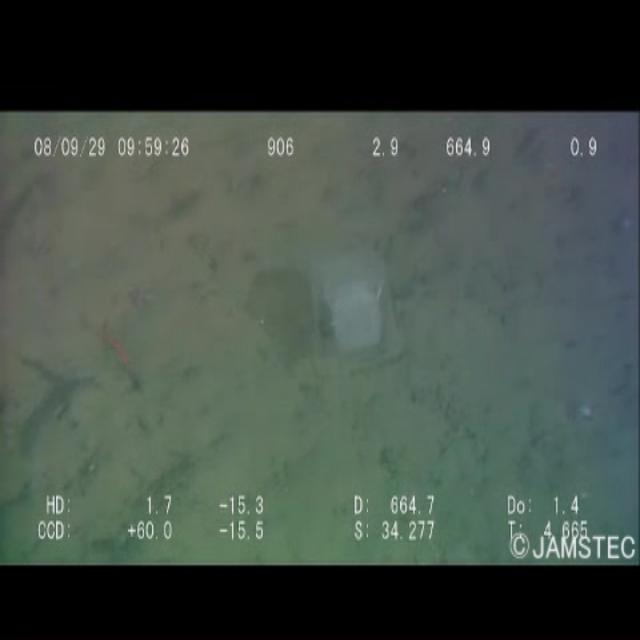Cutlery: (299, 220, 421, 390)
